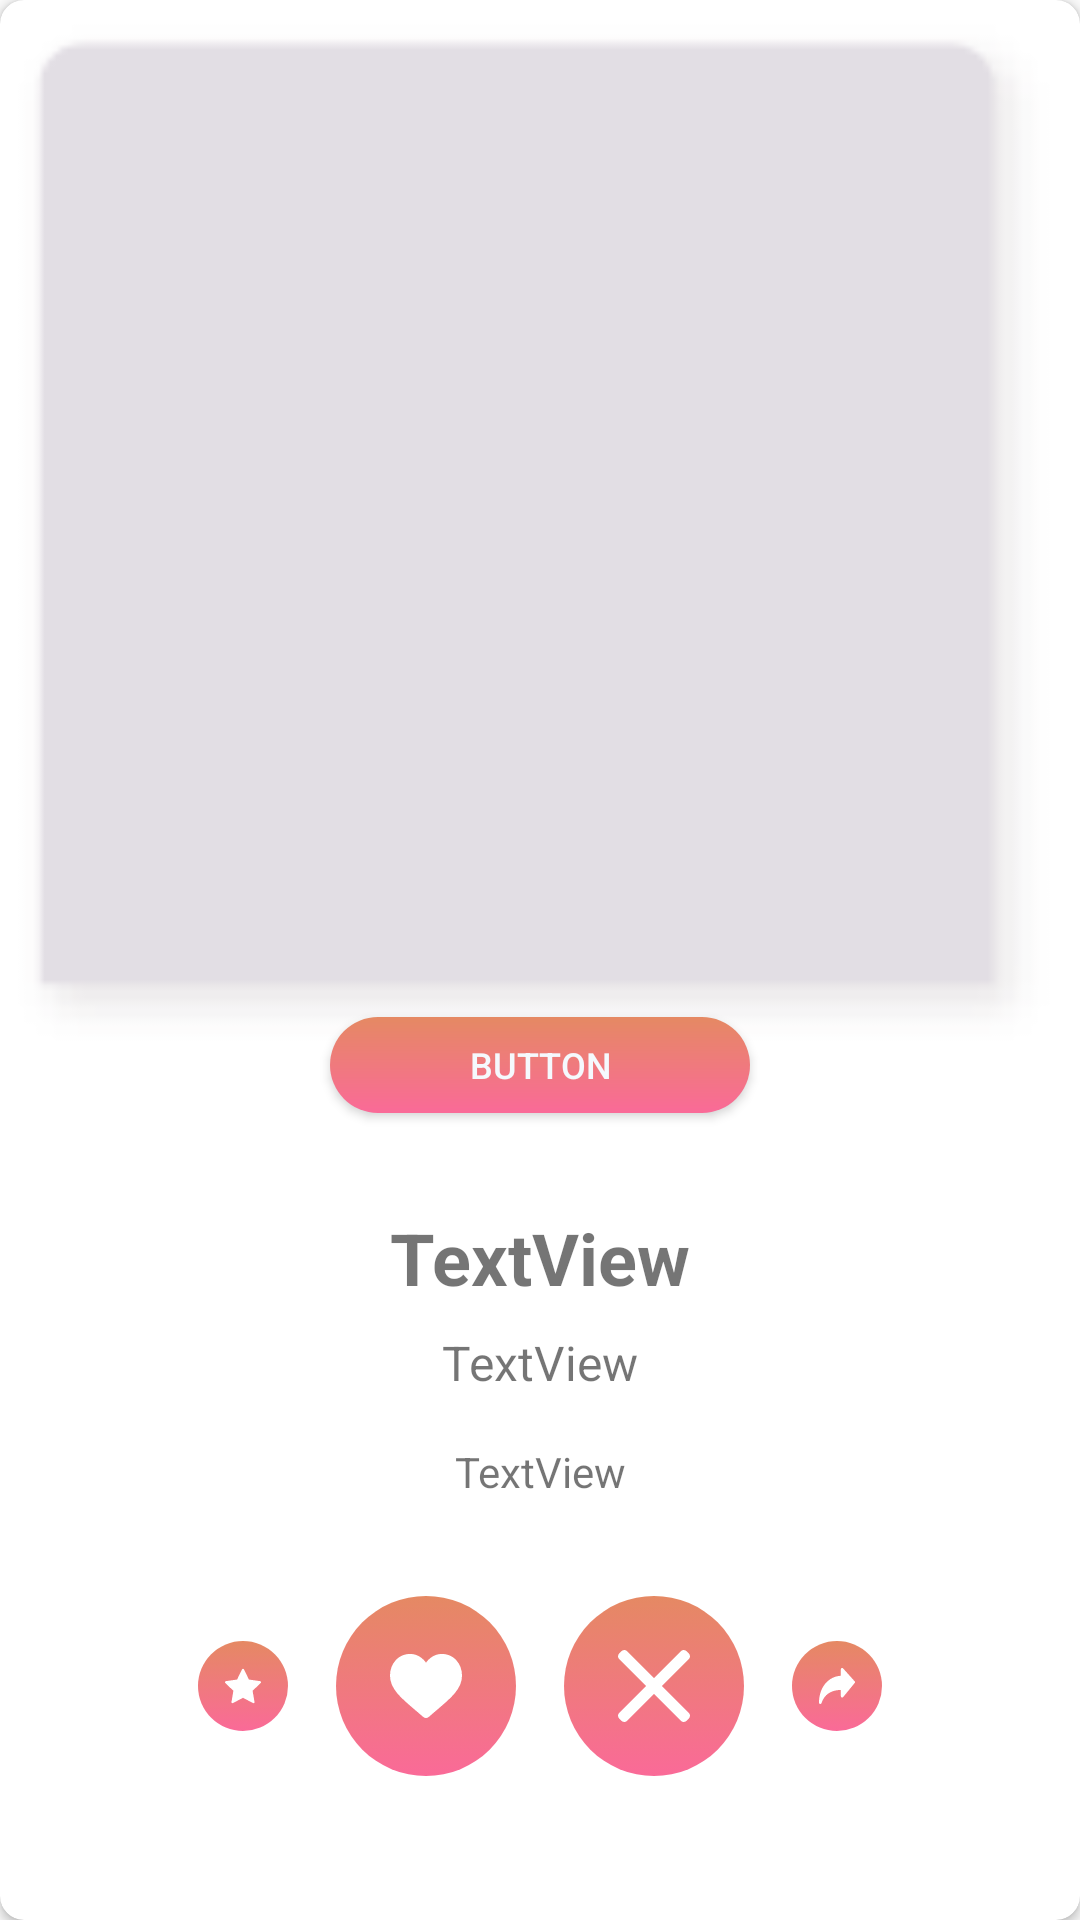

Named icons in this screenshot (1080px x 1920px) and their centers, [x,y]:
arrow: [837,1686]
close: [654,1686]
heart: [426,1686]
star: [243,1686]
